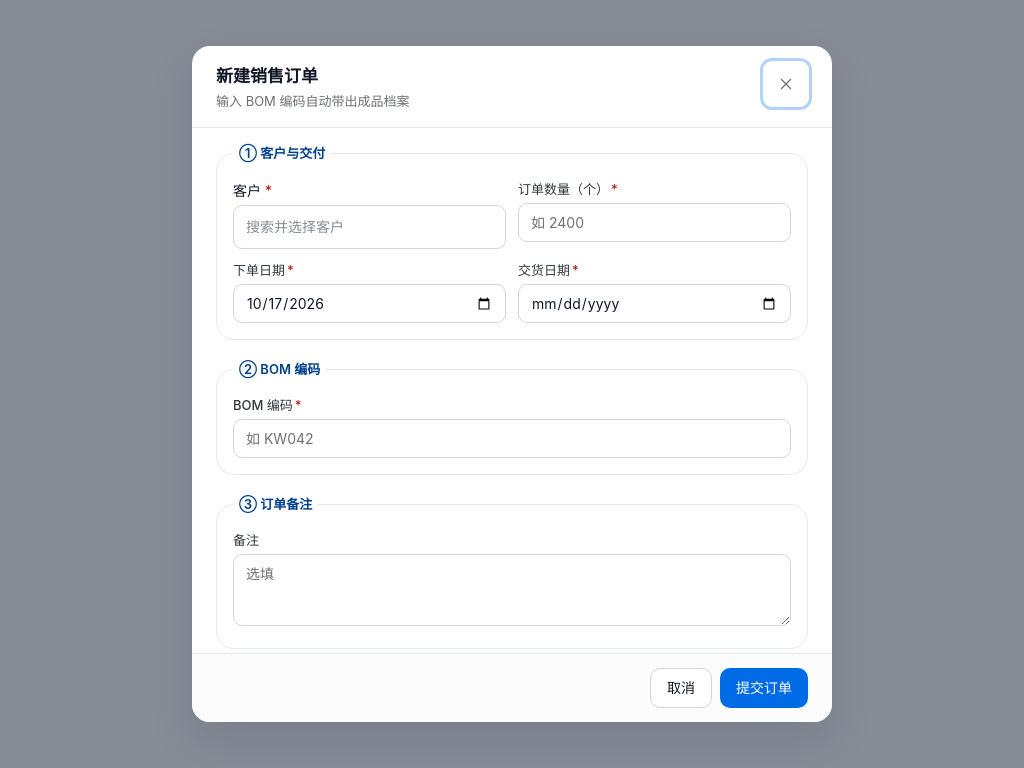
Scenario: 未输入编码提交提示必填，修正输入后错误即时清除
Click the button "提交订单".
click(764, 688)  # box left=720, top=668, right=808, bottom=708
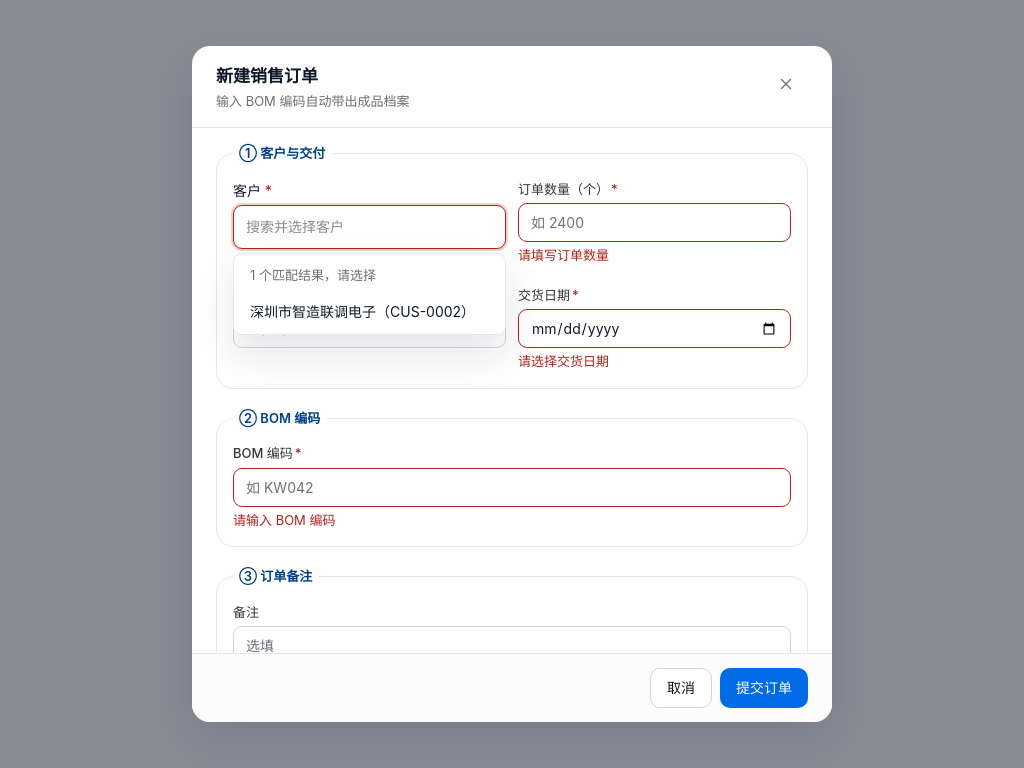
Expected: the text "请输入 BOM 编码" is shown, left=233, top=512, right=336, bottom=528
Type "kw042" into the field labelled "BOM 编码* 请输入 BOM 编码".
click(512, 487); type("kw042")  # box left=233, top=468, right=791, bottom=507
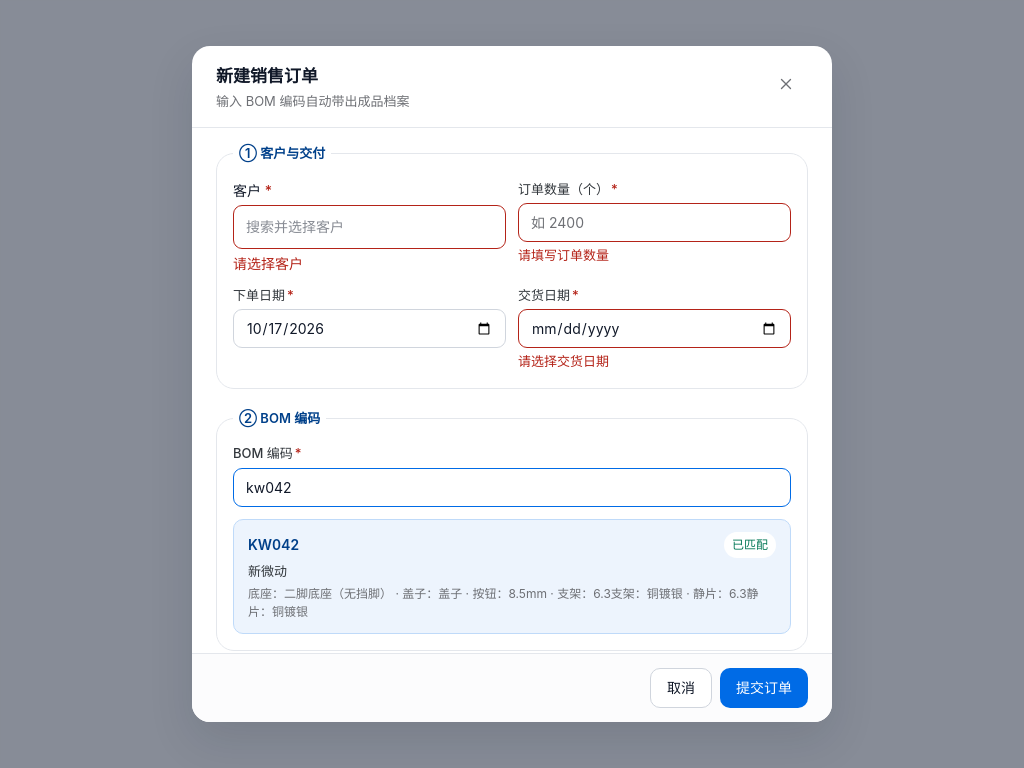
Expected: the text "请输入 BOM 编码" is gone
Expected: the text "KW042" is shown, left=248, top=534, right=299, bottom=555
